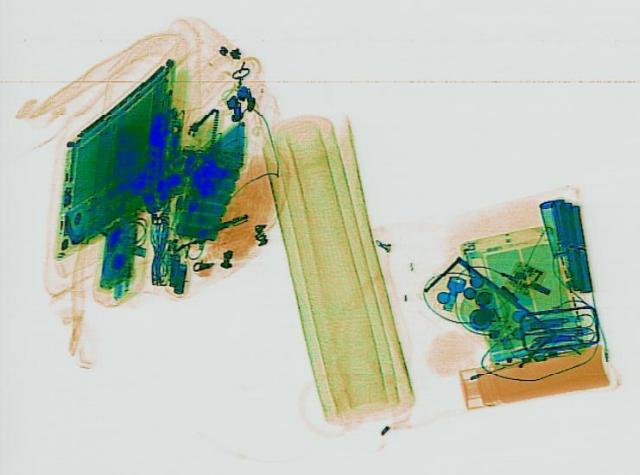Scissors: (522, 310, 598, 346)
